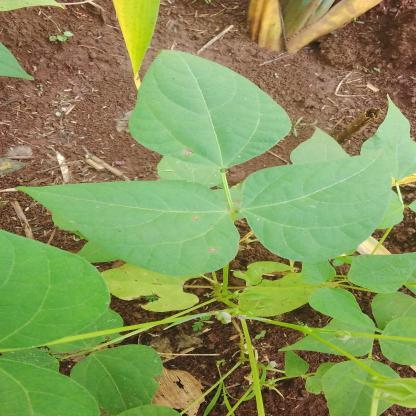Beans_Angular_LeafSpot: (7, 179, 243, 278), (126, 45, 292, 175)
